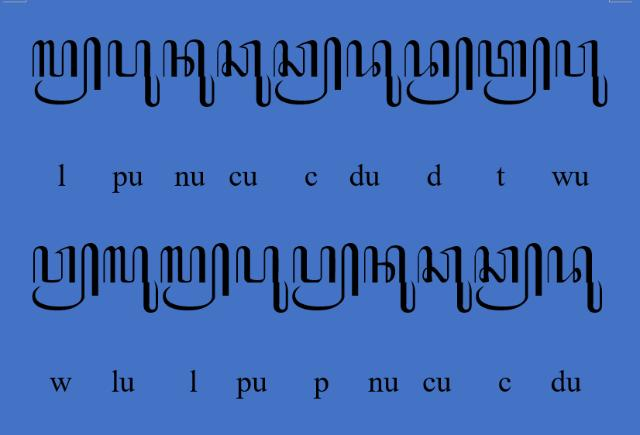-c: (273, 36, 343, 106), (474, 242, 544, 312)
-d: (404, 36, 474, 105)
-l: (32, 36, 102, 107), (160, 243, 230, 313)
-p: (292, 242, 360, 312)
-t: (478, 36, 550, 106)
-w: (32, 244, 100, 313)
cu: (215, 38, 271, 108), (417, 245, 473, 314)
du: (548, 244, 604, 314), (346, 39, 402, 107)
lu: (103, 245, 159, 313)
nu: (163, 39, 215, 109), (364, 245, 416, 314)
pu: (107, 39, 161, 109), (235, 245, 289, 313)
wu: (555, 40, 609, 108)
